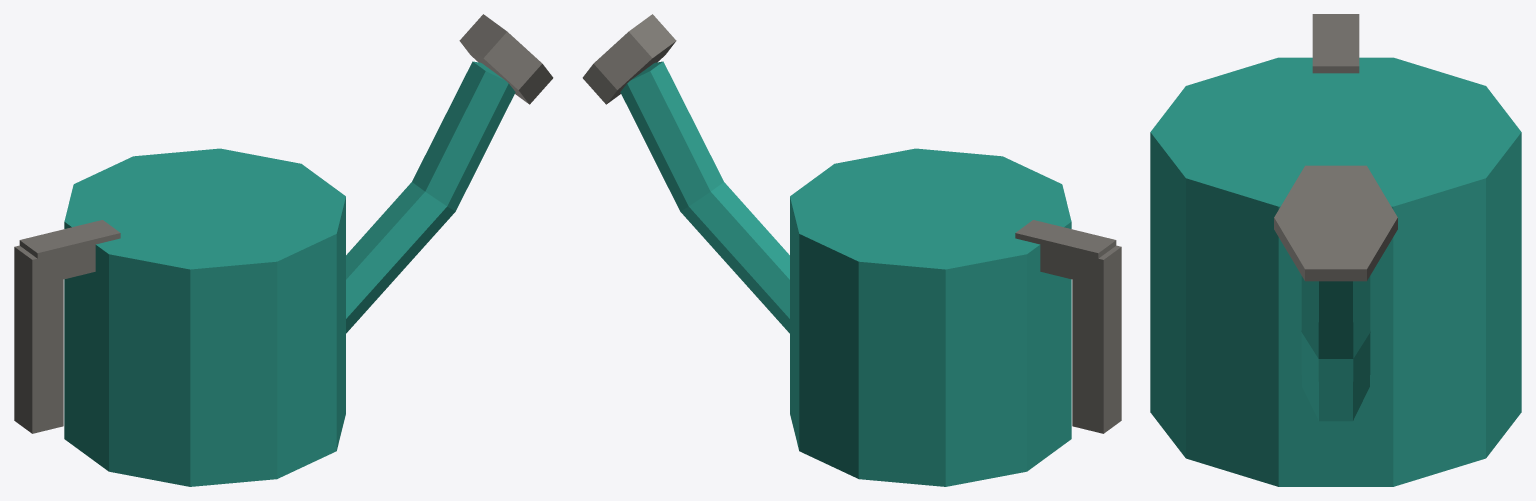
Rendered from watering_can.fbx.
3 renders of one model, left to right at view 1: azimuth 30°, elevation 25°; view 2: azimuth 150°, elevation 25°; view 3: azimuth 270°, elevation 25°, orthographic. The views are drawn at different scales.
Visible parts, largest first — view 1: watering_can; view 2: watering_can; view 3: watering_can.
Part boxes in pixels (x1,y1,x2,y2): watering_can: (14,14,553,486); watering_can: (582,14,1121,486); watering_can: (1150,14,1521,486).
Bounding box in the file's own units: 1.5 × 0.9185 × 0.72.
